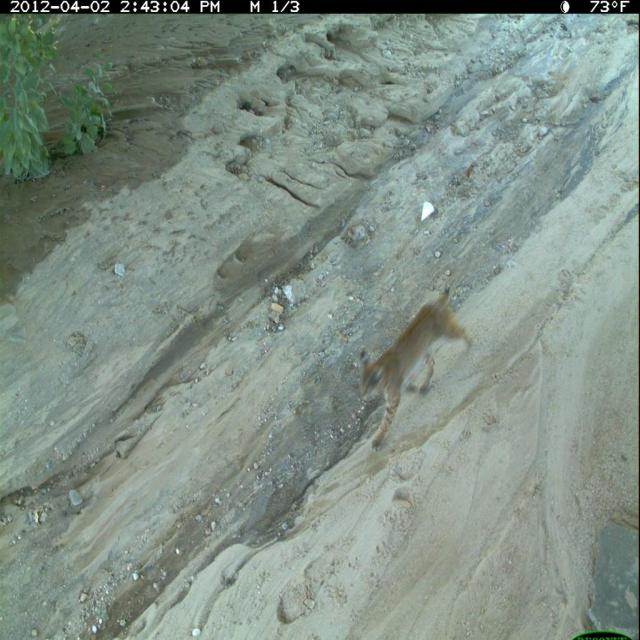bobcat: (356, 280, 479, 454)
